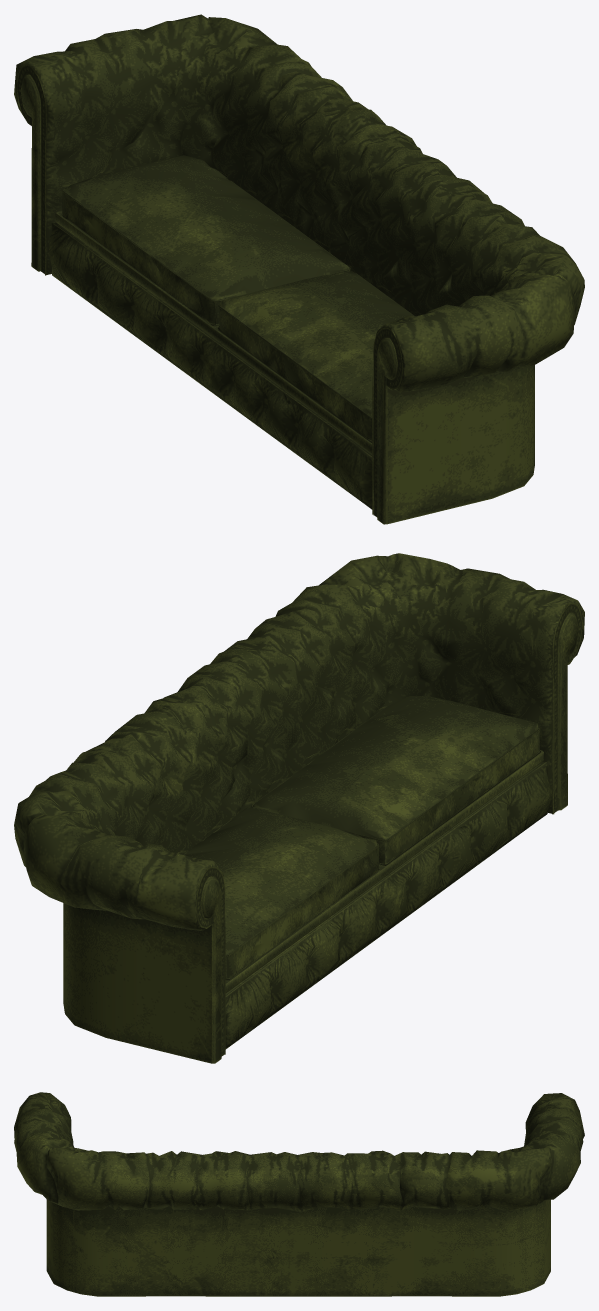
The model's file is vintage_leather_sofa.gltf.
3 views of the same model, one above another, from view 1: azimuth 30°, elevation 25°; view 2: azimuth 150°, elevation 25°; view 3: azimuth 270°, elevation 25° (orthographic). The views are drawn at different scales.
Visible parts, largest first — view 1: Cube.111; view 2: Cube.111; view 3: Cube.111.
Part boxes in pixels (x1,y1,x2,y2): Cube.111: (14,14,584,524); Cube.111: (14,553,584,1063); Cube.111: (14,1092,584,1296).
Bounding box in the file's own units: 2.49 × 2.13 × 7.34.
1 material, 1 textured.
